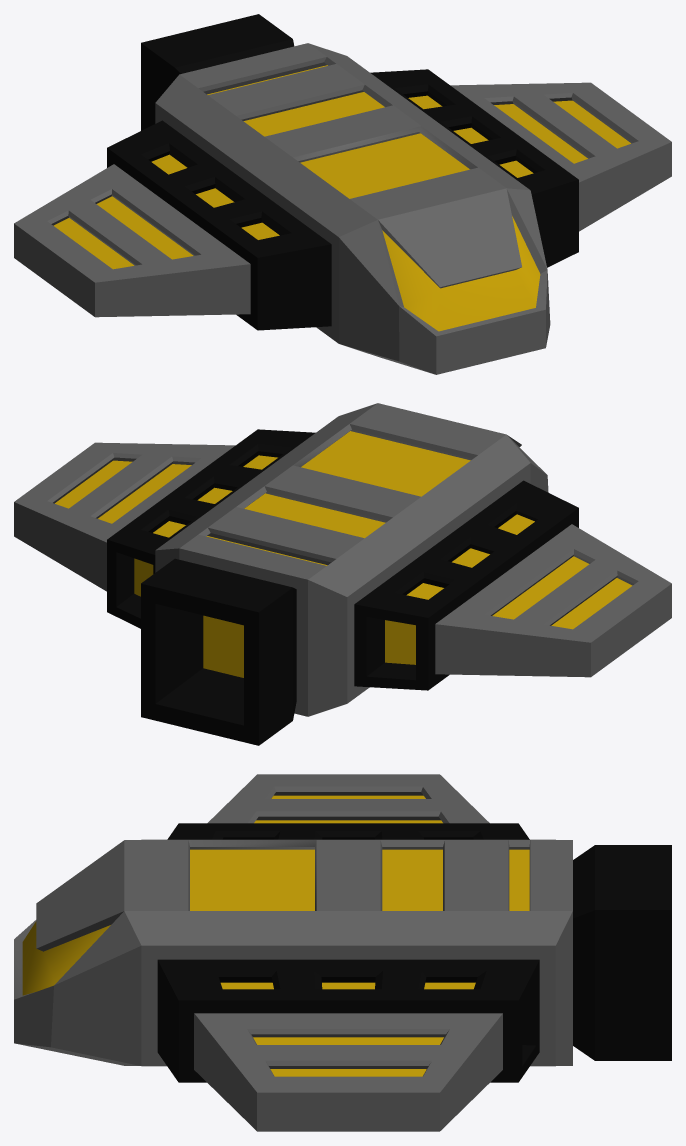
The model's file is BUS_Idle.dae.
The picture shows the model from 3 angles, top to bottom: view 1: azimuth 30°, elevation 25°; view 2: azimuth 150°, elevation 25°; view 3: azimuth 270°, elevation 25°; orthographic projection. The views are drawn at different scales.
Visible parts, largest first — view 1: theBUS__balanced; view 2: theBUS__balanced; view 3: theBUS__balanced.
Boxes of the visible parts, box(x1,y1,x2,y2) form: theBUS__balanced: box(14, 14, 671, 374); theBUS__balanced: box(14, 403, 671, 745); theBUS__balanced: box(14, 774, 671, 1131).
Size of the model in its own units: 5.58 by 1.27 by 4.88.
